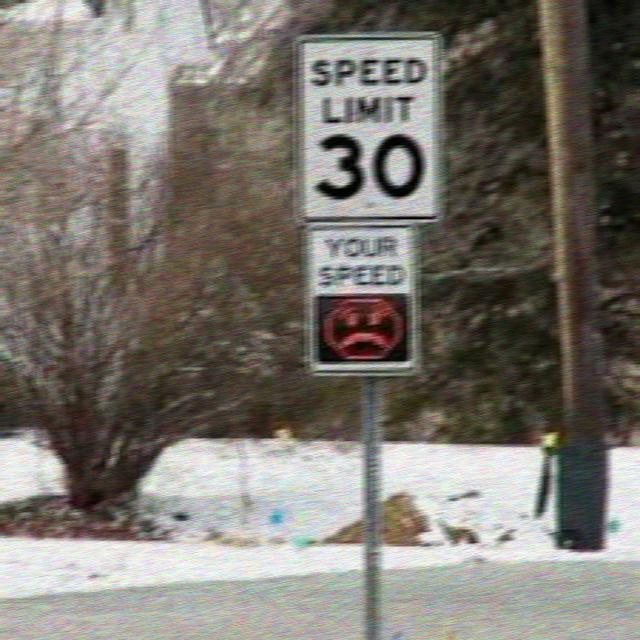speedLimit30: (289, 30, 451, 226)
